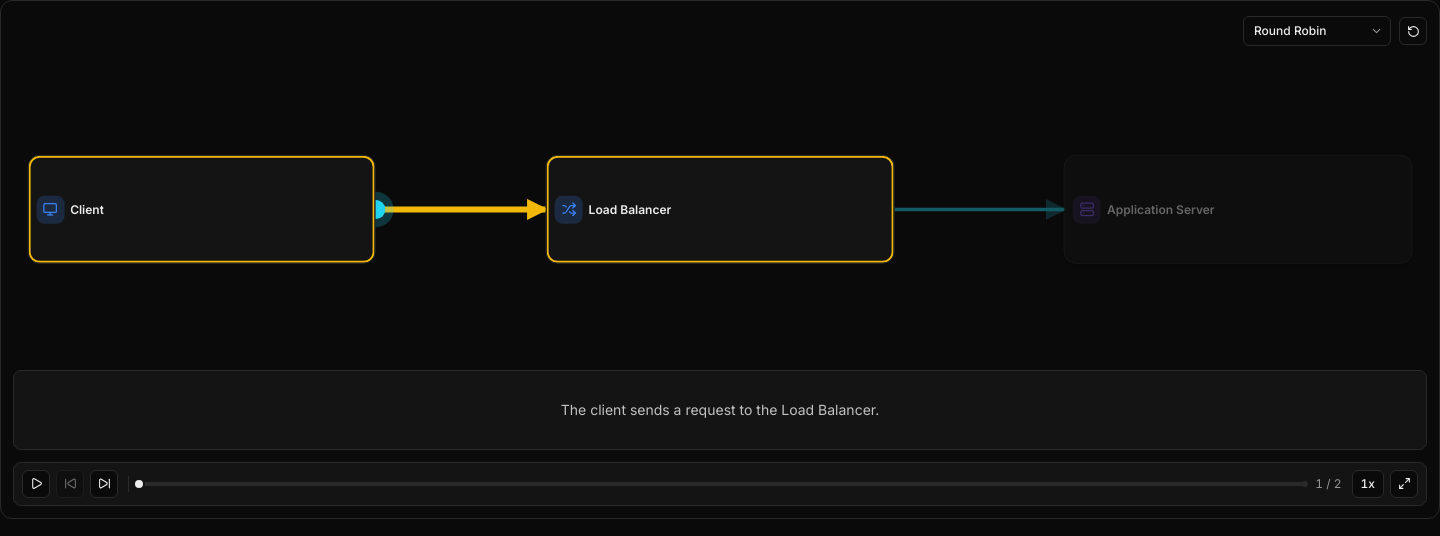
it: Walkthrough › switches to a step's variant caption when a different algorithm is selected
Set the slider named "Step" to "1": (720, 484) [13,462,1427,506]
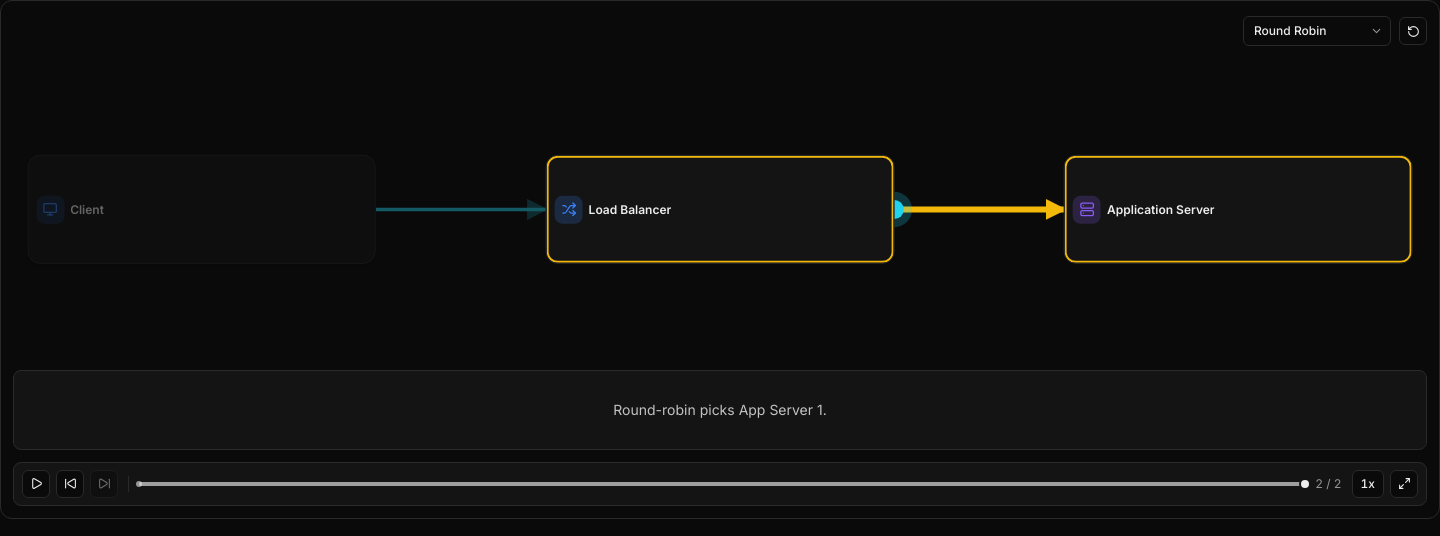
Check: the text "Round-robin picks App Server 1." is shown, box [613,399,827,421]
Select "Least Connections" in the dropdown named "Routing algorithm": (1317, 31) [1243,16,1391,46]
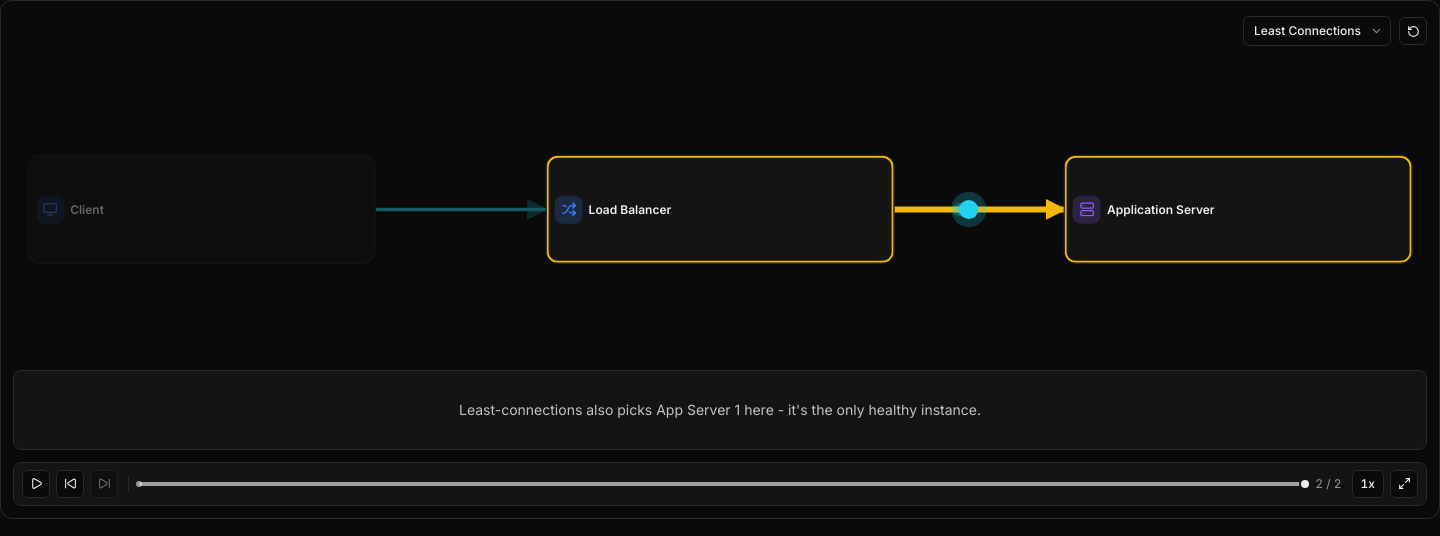
Check: the text "Least-connections also picks App Server 1 here - it's the only healthy instance." is shown, box [459,399,981,421]
